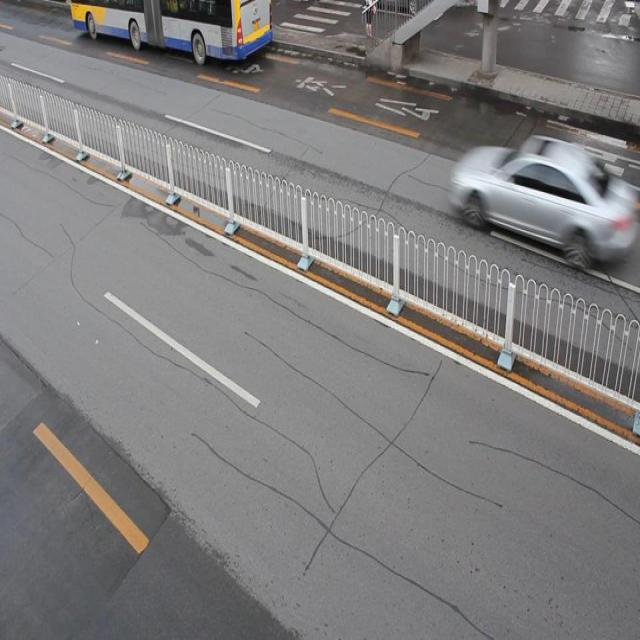car: (453, 135, 624, 268)
van: (71, 1, 272, 70)
